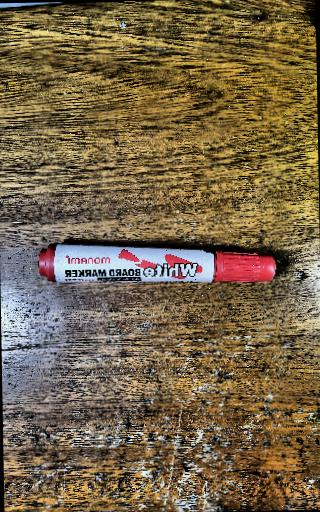marcador rojo: (39, 243, 276, 283)
